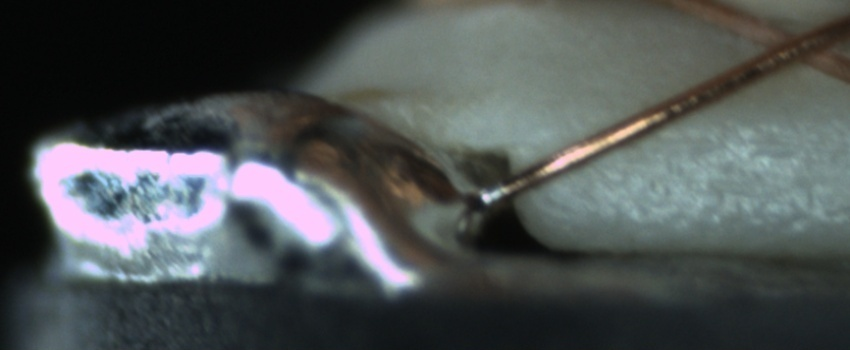CL: (748, 13, 838, 76)
DL: (627, 111, 845, 170)
TS: (475, 178, 508, 205)
